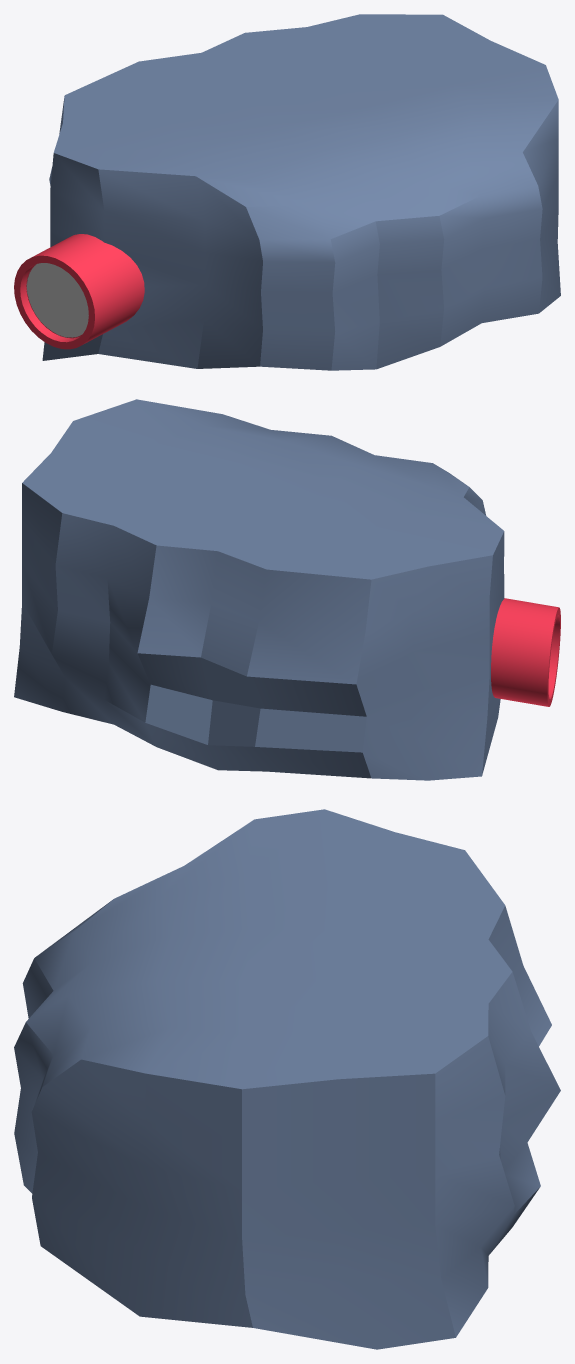
3 renders of one model, top to bottom at view 1: azimuth 30°, elevation 25°; view 2: azimuth 150°, elevation 25°; view 3: azimuth 270°, elevation 25°, orthographic. The views are drawn at different scales.
Parts seen in each view (by area): view 1: Cube, Cylinder.000, Cylinder.001; view 2: Cube, Cylinder.000; view 3: Cube.
Boxes of the visible parts, x1,y1,x2,y2 form: Cube: (42, 14, 560, 370); Cylinder.000: (14, 234, 144, 349); Cylinder.001: (26, 263, 88, 337); Cube: (14, 399, 504, 780); Cylinder.000: (491, 598, 560, 706); Cube: (14, 809, 560, 1349).
Bounding box in the file's own units: 526 × 248 × 393.
